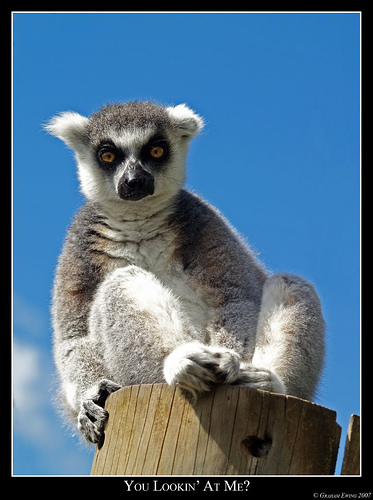cat: (38, 96, 330, 448)
